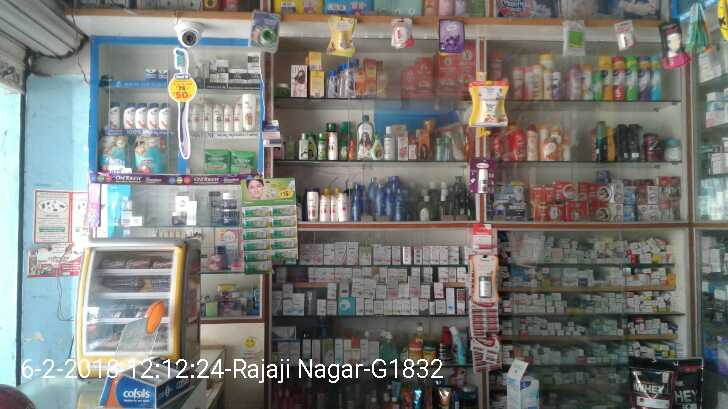beauty: (242, 91, 256, 131), (188, 101, 203, 132), (249, 53, 261, 86), (108, 102, 121, 130), (158, 102, 171, 129), (228, 67, 247, 85), (204, 101, 215, 132), (122, 103, 136, 127), (216, 59, 227, 87), (232, 102, 242, 132), (147, 103, 158, 129), (223, 102, 232, 132), (213, 101, 221, 133), (136, 103, 146, 128)
pharmacy: (133, 133, 167, 173), (99, 135, 131, 173), (229, 152, 253, 175), (204, 152, 228, 173), (145, 68, 158, 80), (157, 69, 169, 80)
